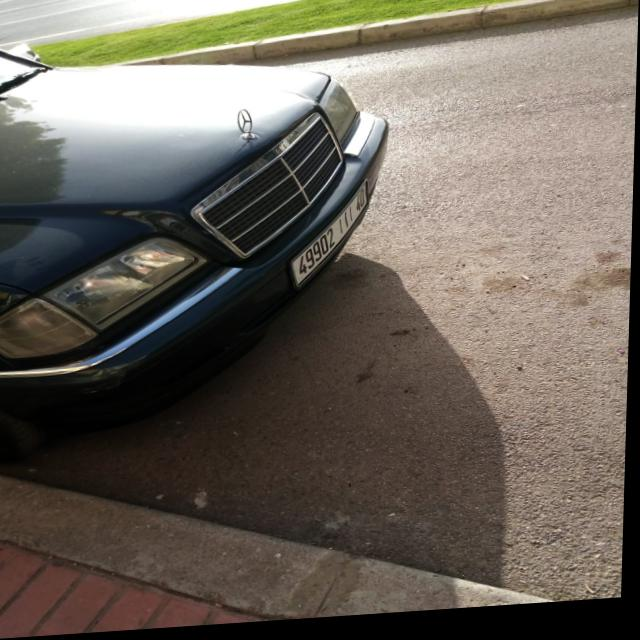License-Plate: (292, 188, 370, 291)
